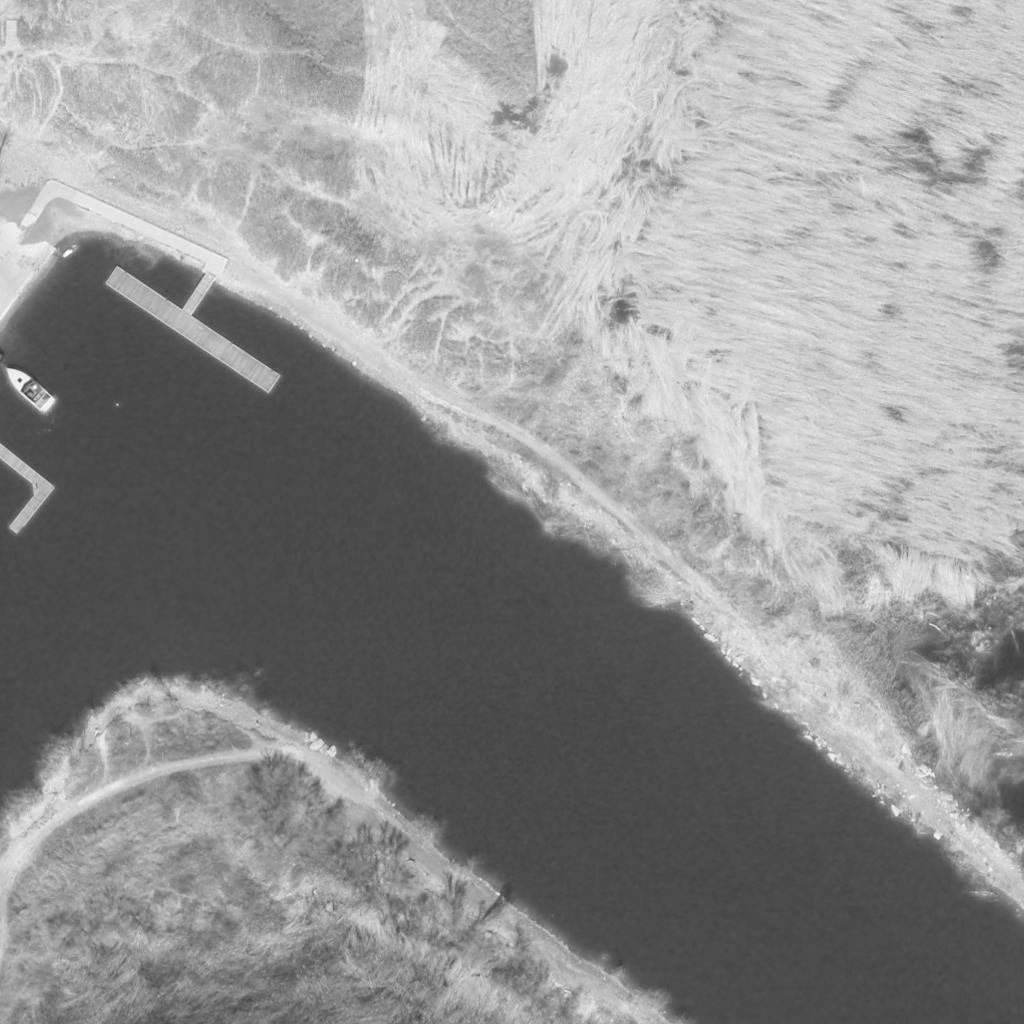vehicle: (0, 361, 55, 413)
